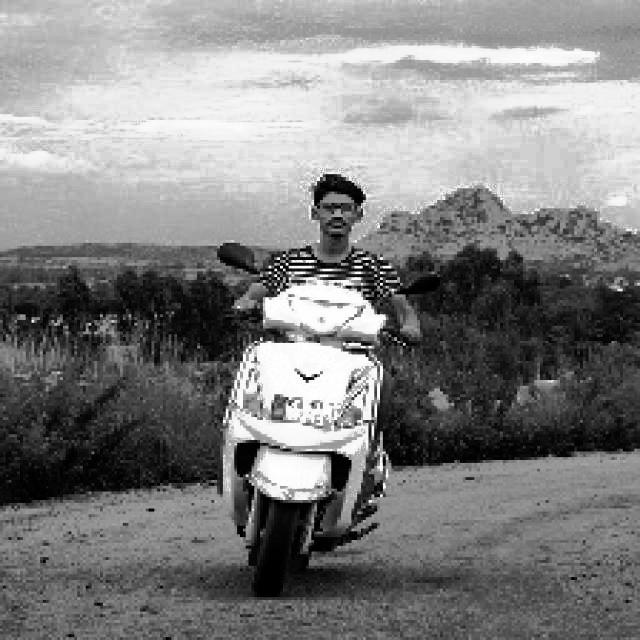Bike: (218, 263, 394, 575)
